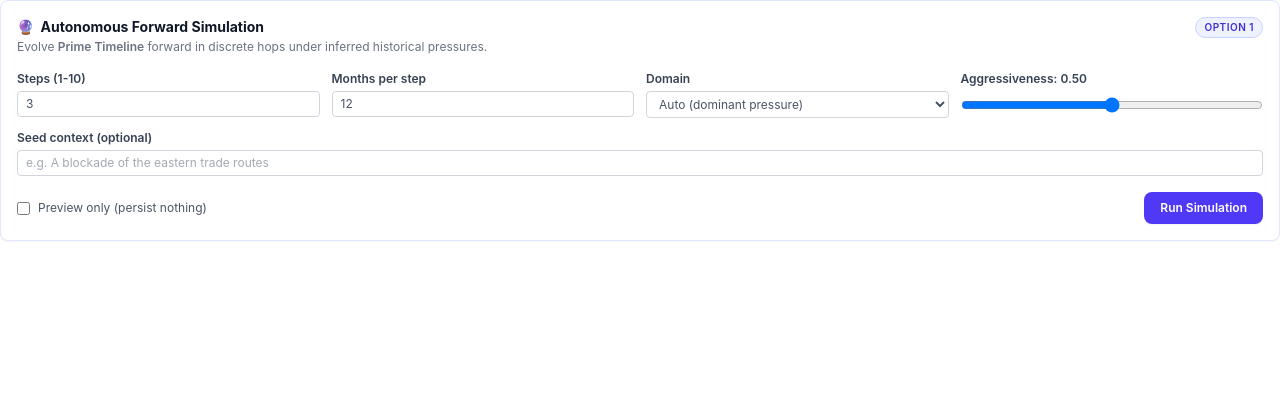
it: SimulationLauncherPanel › runs a simulation with the selected options and reports the result upward
Replace the text in the number field labelled "Steps (1-10)" with "4" at point(168, 104), box [17, 91, 320, 117]
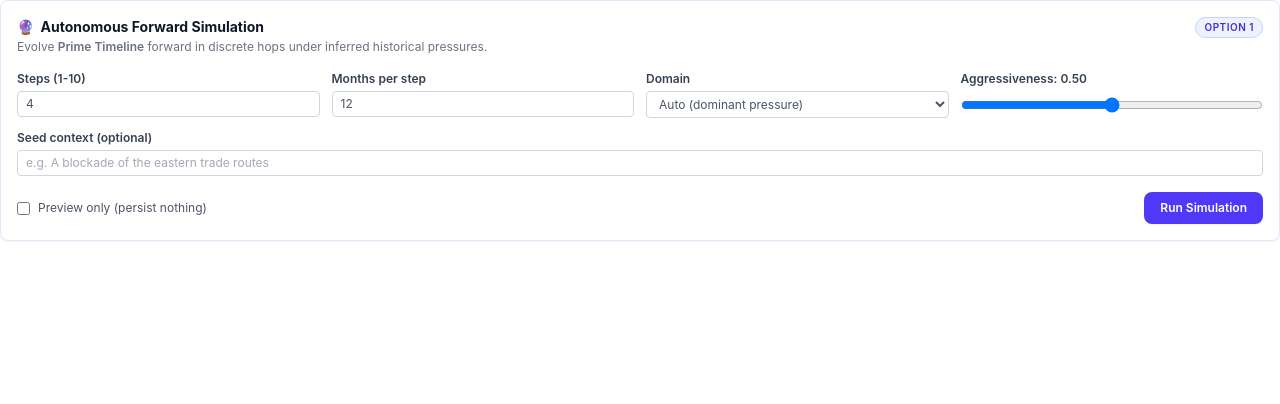
Replace the text in the number field labelled "Months per step" with "24" at point(483, 104), box [332, 91, 634, 117]
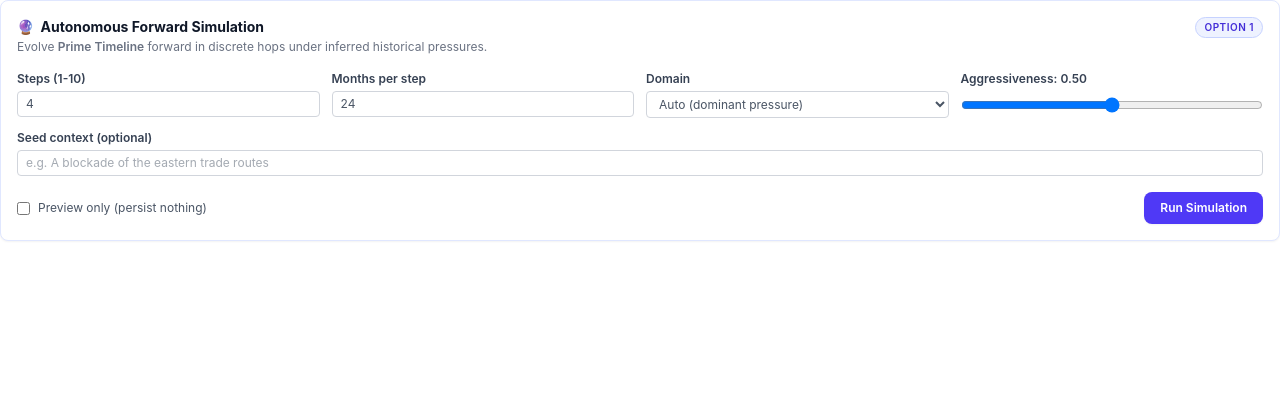
Select "military" in the dropdown labelled "Domain" at point(797, 104), box [646, 91, 948, 118]
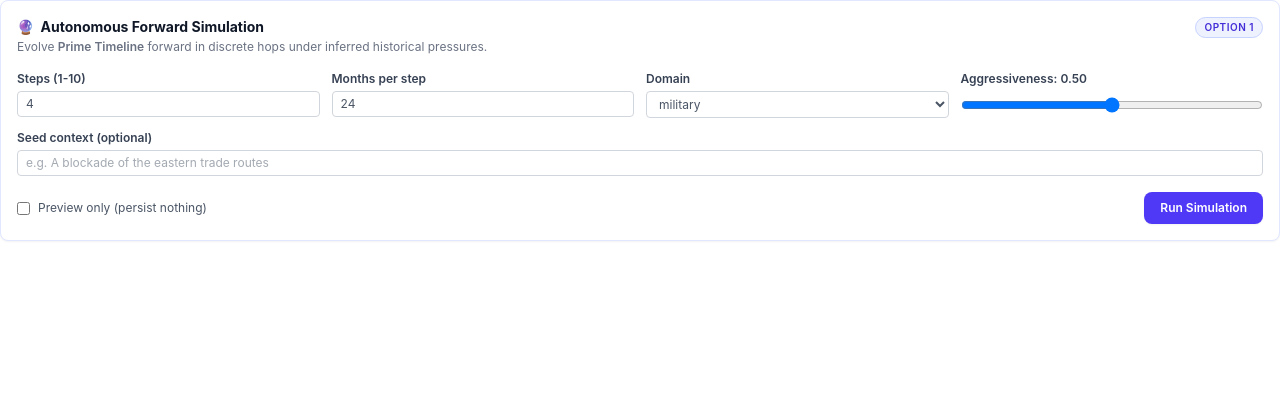
Type "A blockade" into the field labelled "Seed context (optional)" at point(640, 163), box [17, 150, 1263, 176]
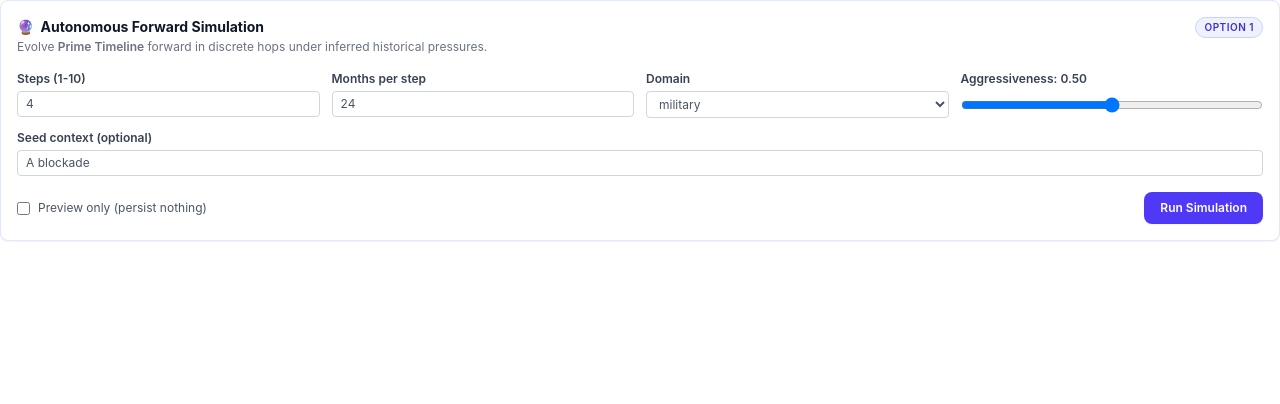
Click the button "Run Simulation" at point(1204, 208), box [1144, 192, 1263, 224]
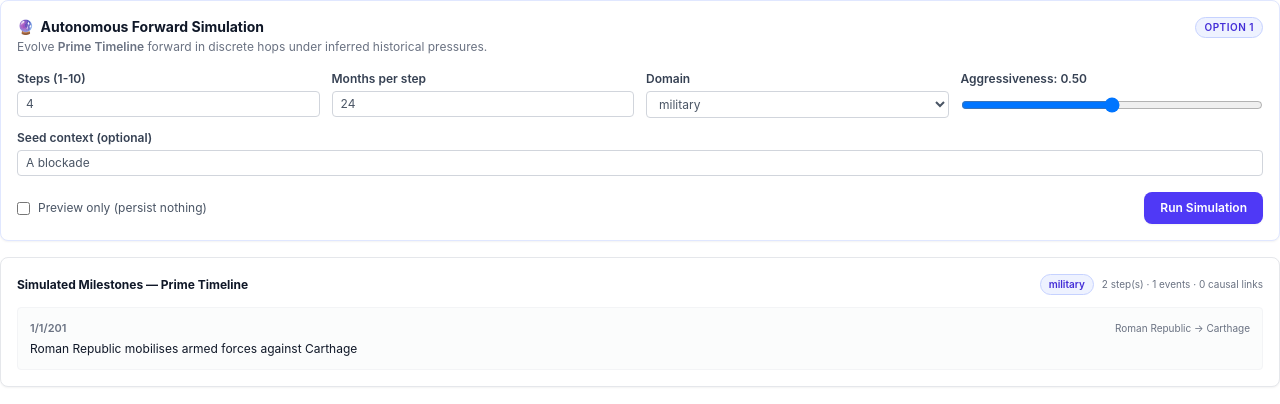
Now the list with test id "simulated-milestones" is shown, box [17, 307, 1263, 370]
Now the text "Roman Republic mobilises armed forces against Carthage" is shown, box [30, 340, 357, 356]
